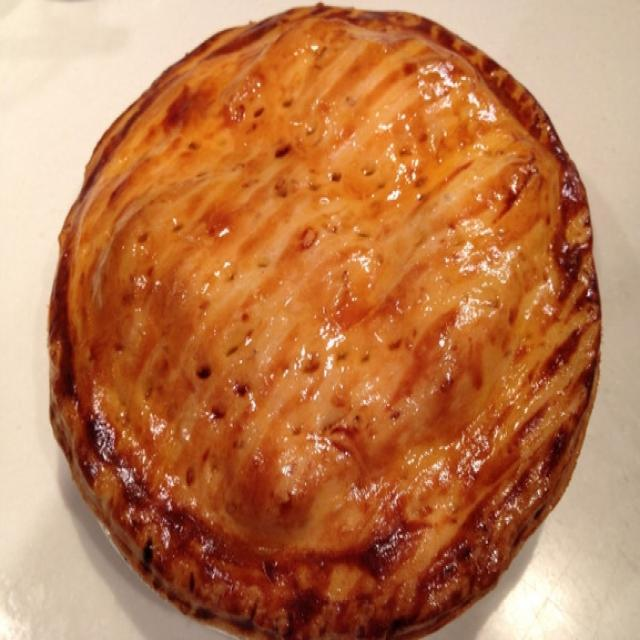Apple: (54, 1, 600, 639)
